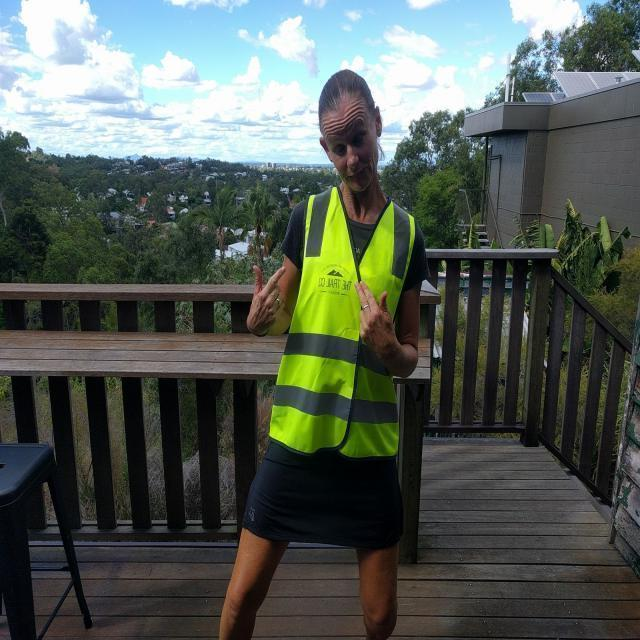safety_vest: (280, 187, 402, 460)
